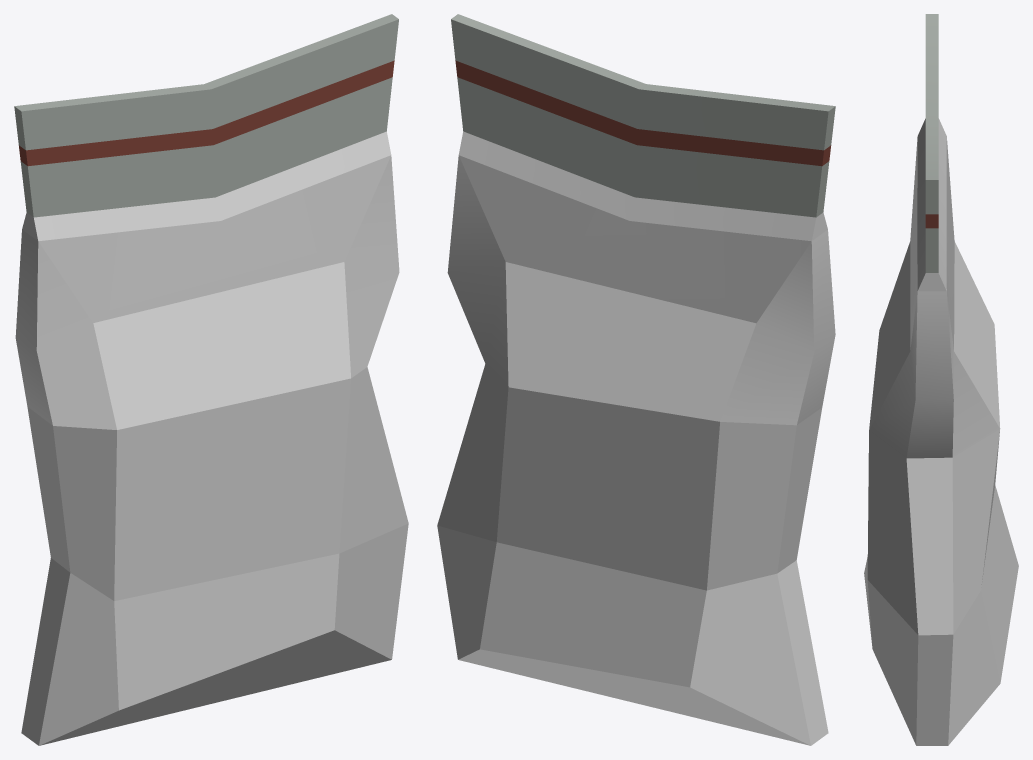
Rendered from SM_Prop_Evidence_Bag_02.fbx.
3 renders of one model, left to right at view 1: azimuth 30°, elevation 25°; view 2: azimuth 150°, elevation 25°; view 3: azimuth 270°, elevation 25°, orthographic. The views are drawn at different scales.
Parts seen in each view (by area): view 1: SM_Prop_Evidence_Bag_02; view 2: SM_Prop_Evidence_Bag_02; view 3: SM_Prop_Evidence_Bag_02.
Boxes of the visible parts, x1,y1,x2,y2 form: SM_Prop_Evidence_Bag_02: (14, 14, 408, 745); SM_Prop_Evidence_Bag_02: (437, 14, 835, 745); SM_Prop_Evidence_Bag_02: (864, 14, 1018, 745).
Size of the model in its own units: 13.75 by 21.73 by 5.34.
